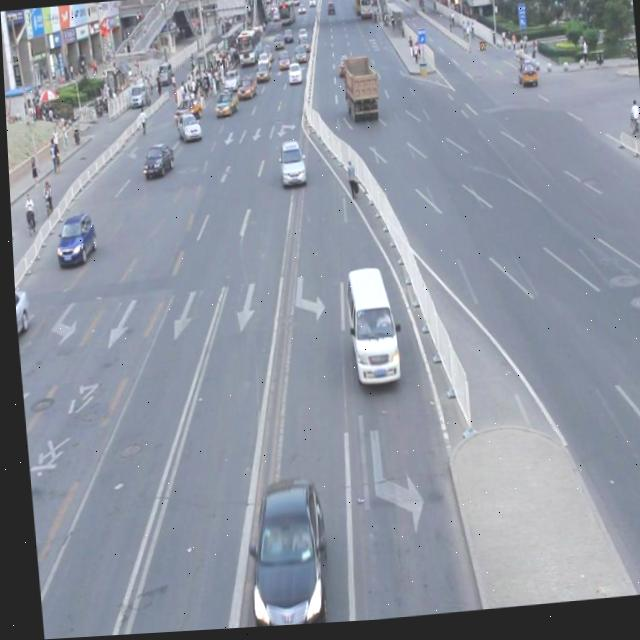car: (234, 476, 322, 630), (50, 213, 96, 268), (275, 141, 305, 190), (139, 142, 173, 182), (12, 286, 28, 341)
truck: (340, 269, 396, 391)
